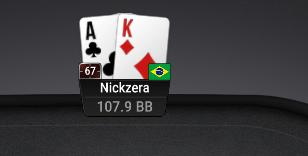Ac: (79, 17, 116, 78)
Kd: (118, 15, 169, 80)
